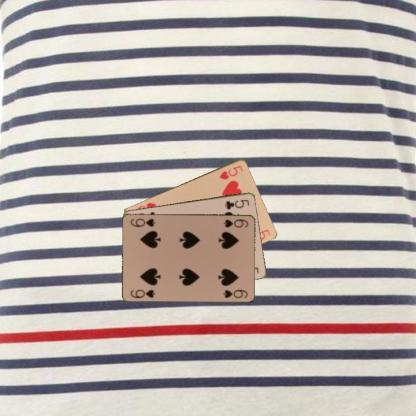5c: (221, 196, 250, 210)
5h: (216, 162, 244, 180)
6s: (128, 287, 156, 299), (221, 217, 250, 228)
